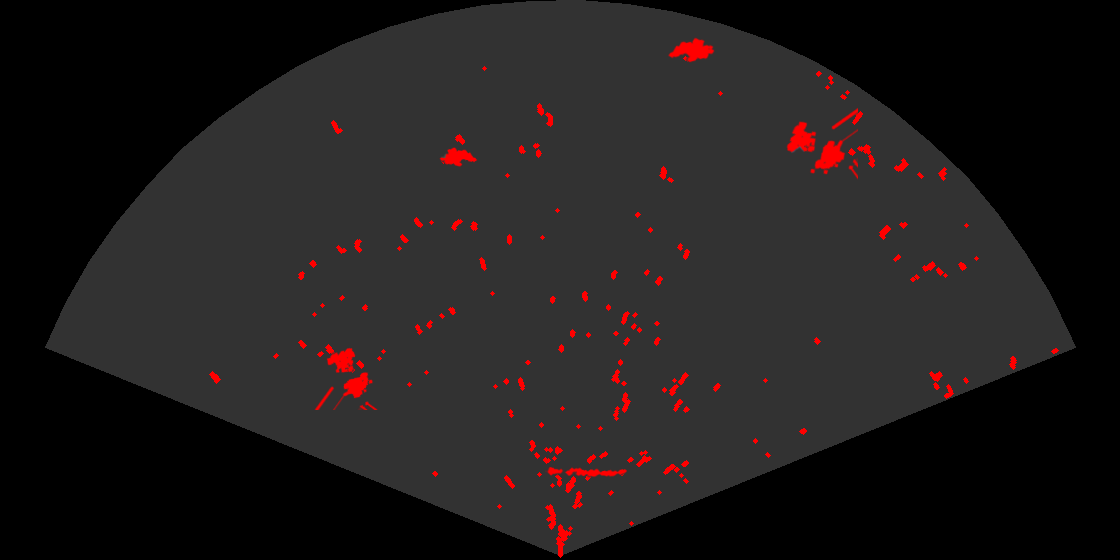AUV: (666, 36, 716, 64), (438, 146, 479, 168)
cage: (785, 106, 858, 181), (313, 346, 379, 410)
chain: (545, 465, 627, 479)
